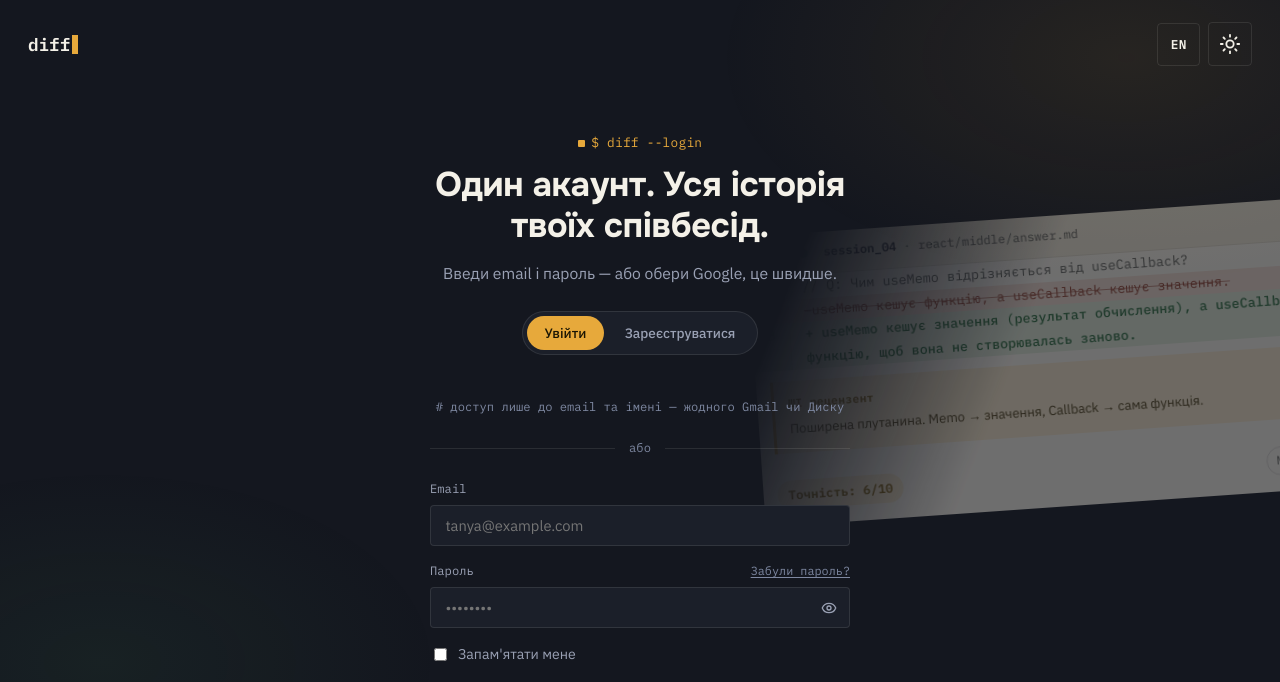
Test case: LoginPage i18n › lets a visitor who opened /login directly switch the language
Click the button with aria-label "Змінити мову на English" at (1179, 44), box x1=1158 y1=23 x2=1200 y2=66
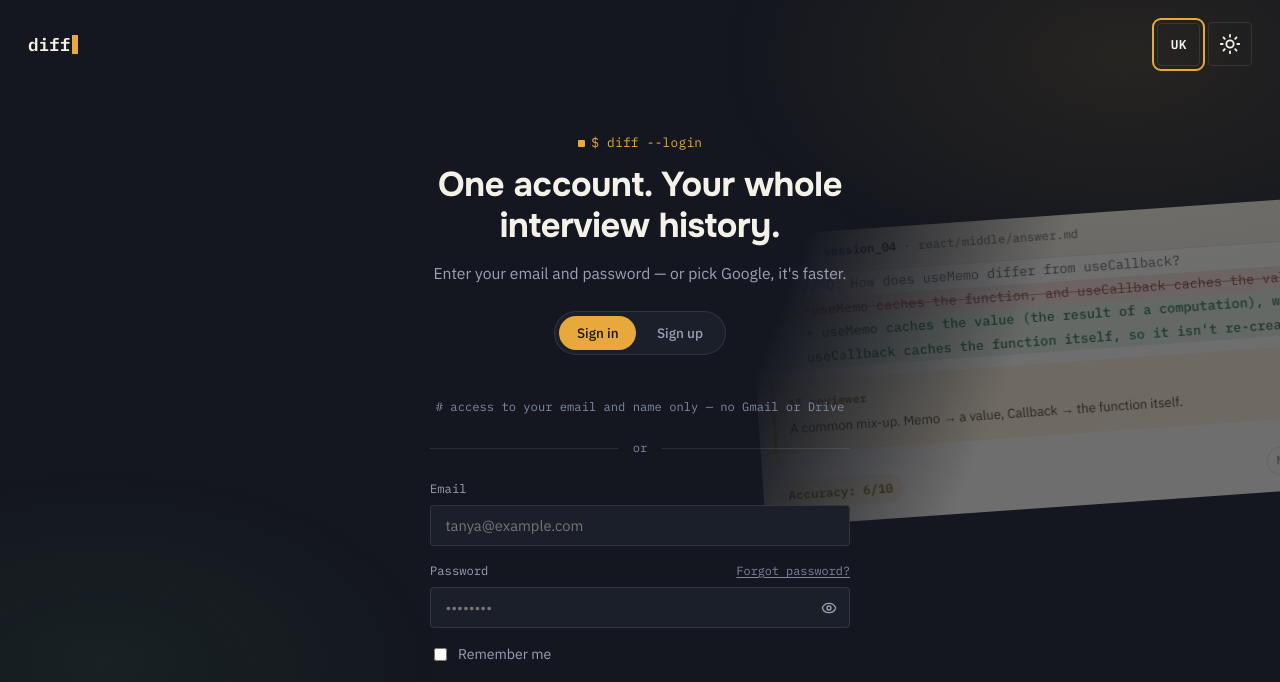
Check: the heading "One account. Your whole interview history." is shown, box x1=430 y1=165 x2=850 y2=246
Check: the button with aria-label "Switch language to Українська" is shown, box x1=1158 y1=23 x2=1200 y2=66
